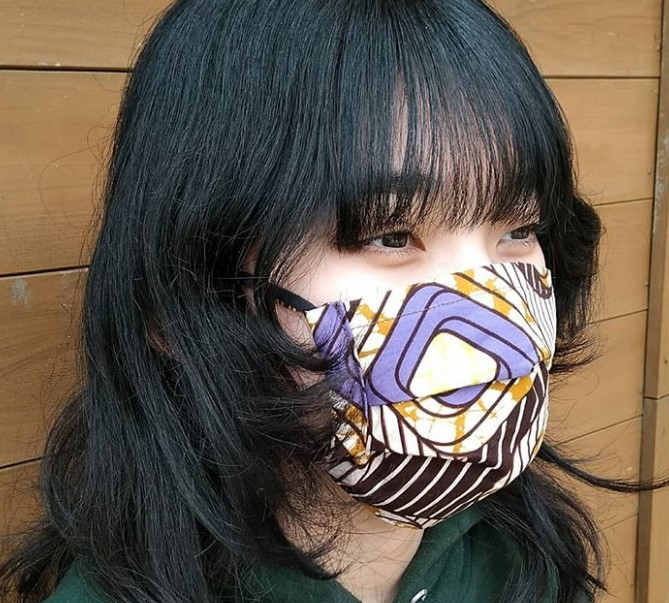face_with_mask: (171, 11, 580, 532)
